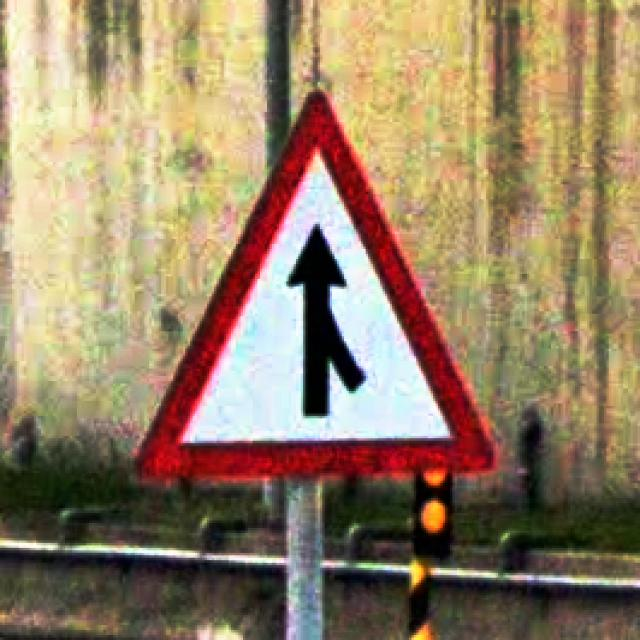rightmerge: (135, 88, 494, 476)
